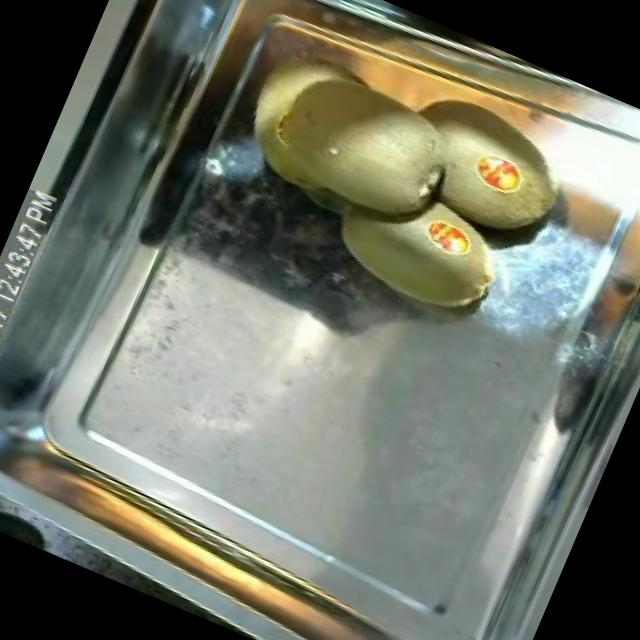Fruit: (235, 35, 492, 266), (306, 158, 527, 344)
